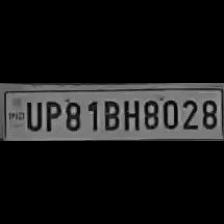0: (160, 96, 178, 130)
1: (84, 97, 100, 132)
2: (178, 96, 198, 130)
8: (62, 97, 82, 132), (140, 97, 160, 131), (198, 96, 218, 130)
B: (100, 96, 119, 132)
H: (120, 96, 140, 132)
P: (42, 97, 62, 132)
U: (22, 98, 42, 132)
